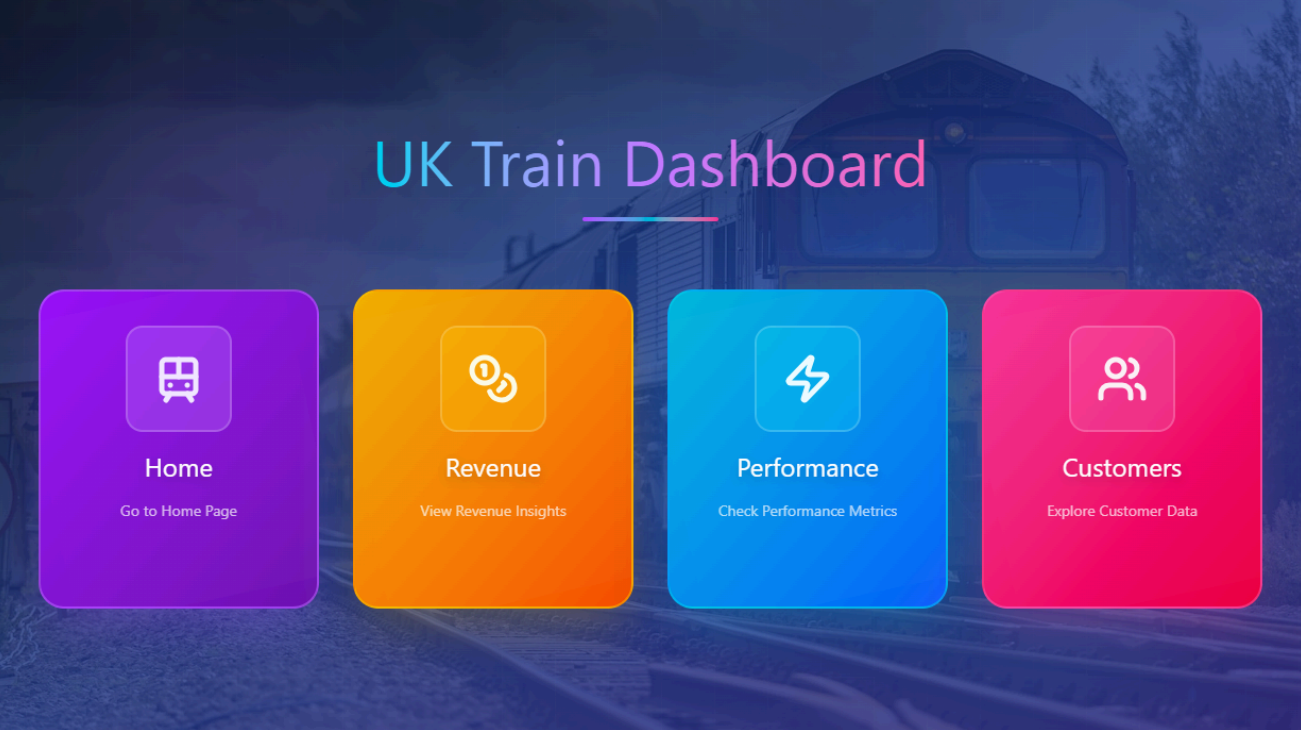

What the dashboard file says about the page in this screenshot:
{"tool":"powerbi","page":{"name":"Page 1","canvas":[1280,720],"ordinal":0},"visuals":[{"type":"image","box":[0,0,1280.3,719.7],"z":0},{"type":"shape","box":[58.5,293.9,246.3,292.5],"z":1000},{"type":"shape","box":[366,293.9,240.8,265.3],"z":2000},{"type":"shape","box":[672.1,307.5,240.8,265.3],"z":3000},{"type":"shape","box":[976.9,307.5,240.8,265.3],"z":4000}]}

Visuals, with their boxes in screenshot pixels (x1, y1, x2, y2), scaled from the page's 1280x720 canvas onto the 1301x730 screenshot:
image: crop(0, 0, 1300, 729)
shape: crop(59, 298, 310, 595)
shape: crop(372, 298, 617, 567)
shape: crop(683, 312, 928, 581)
shape: crop(993, 312, 1238, 581)
